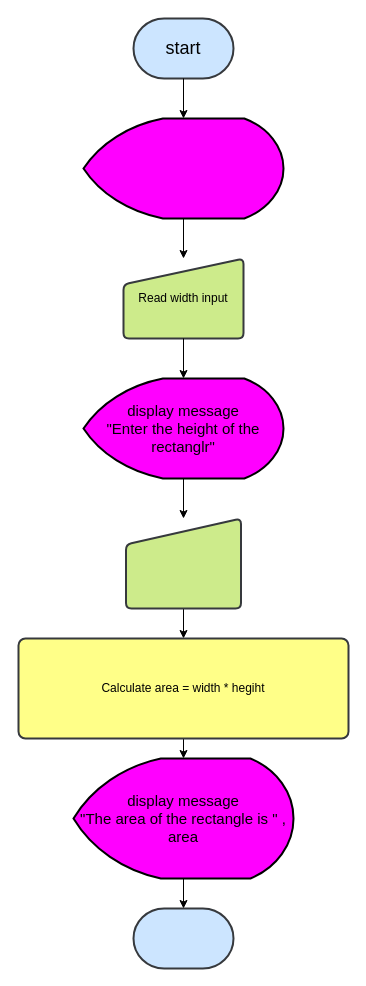
Image size: 366x986. Some labels were removed from this diagram. The centre of each missing label's shape, as x and y in pixels:
display message "Enter the width of the rectanglr": (x=183, y=168)
End: (x=183, y=938)
Read height input: (x=183, y=563)
